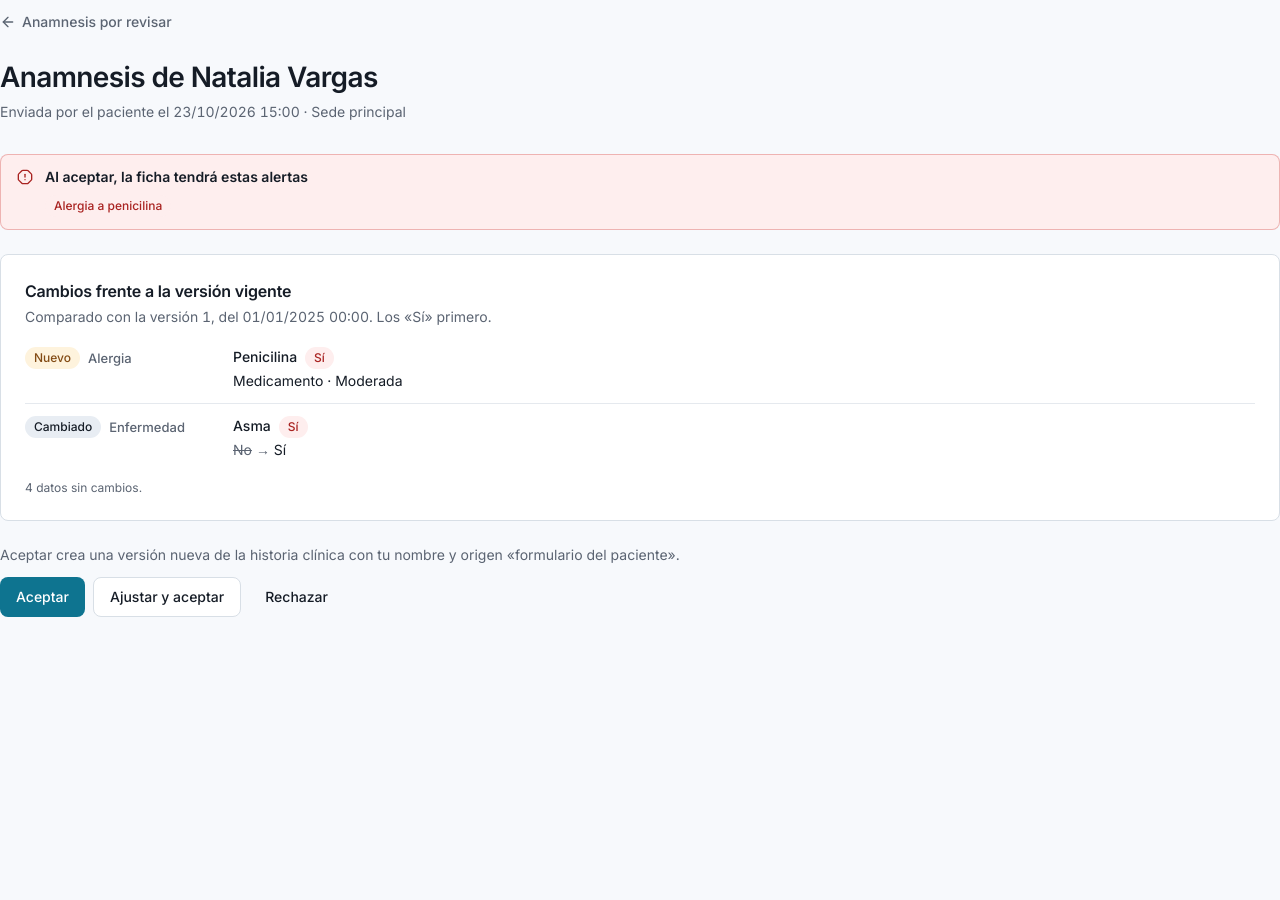
it: Revisión de la anamnesis (DX-099) › rechazar exige el motivo
Click the button "Rechazar": (297, 597) [249,577,344,617]
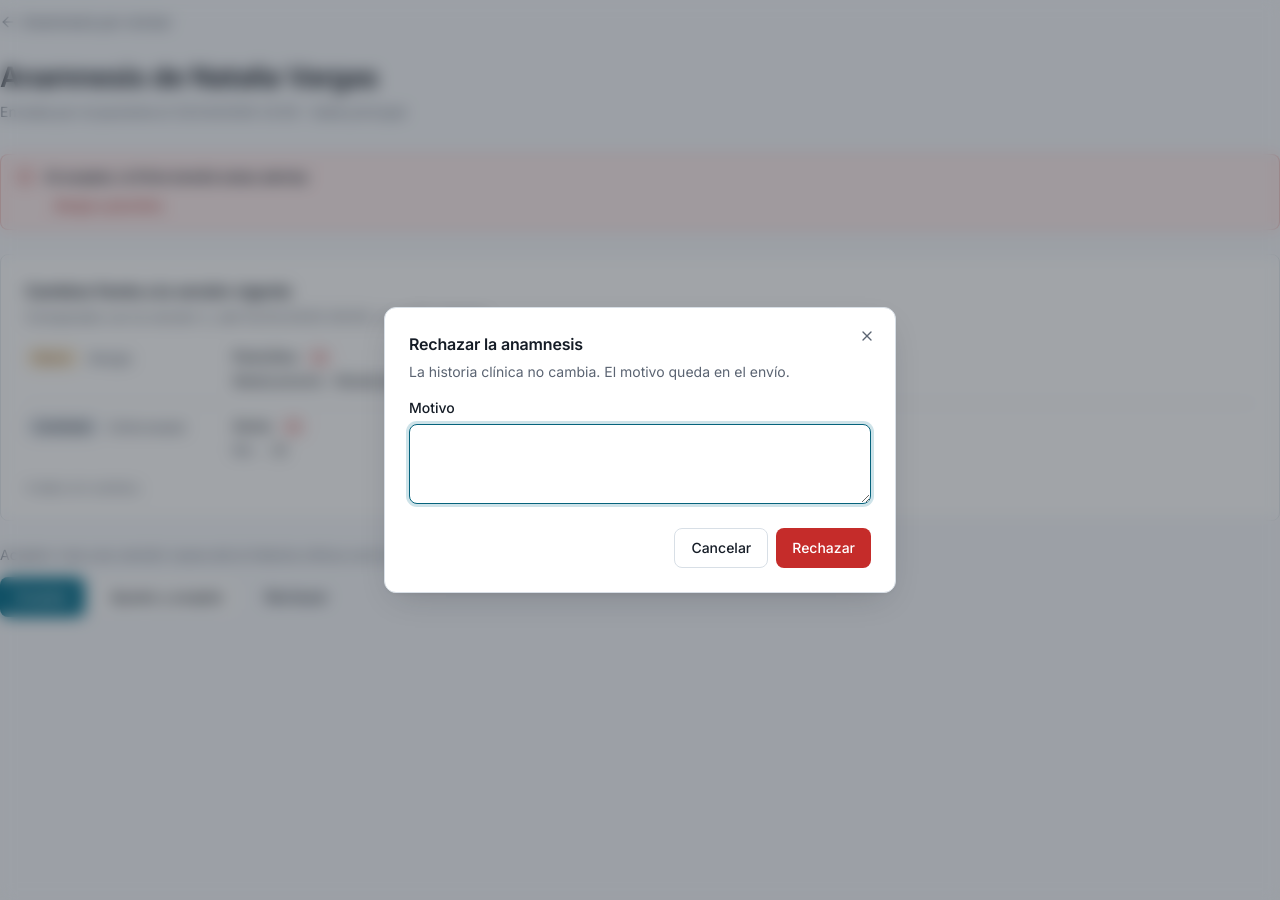
Submit the form, box [409,398,871,568]
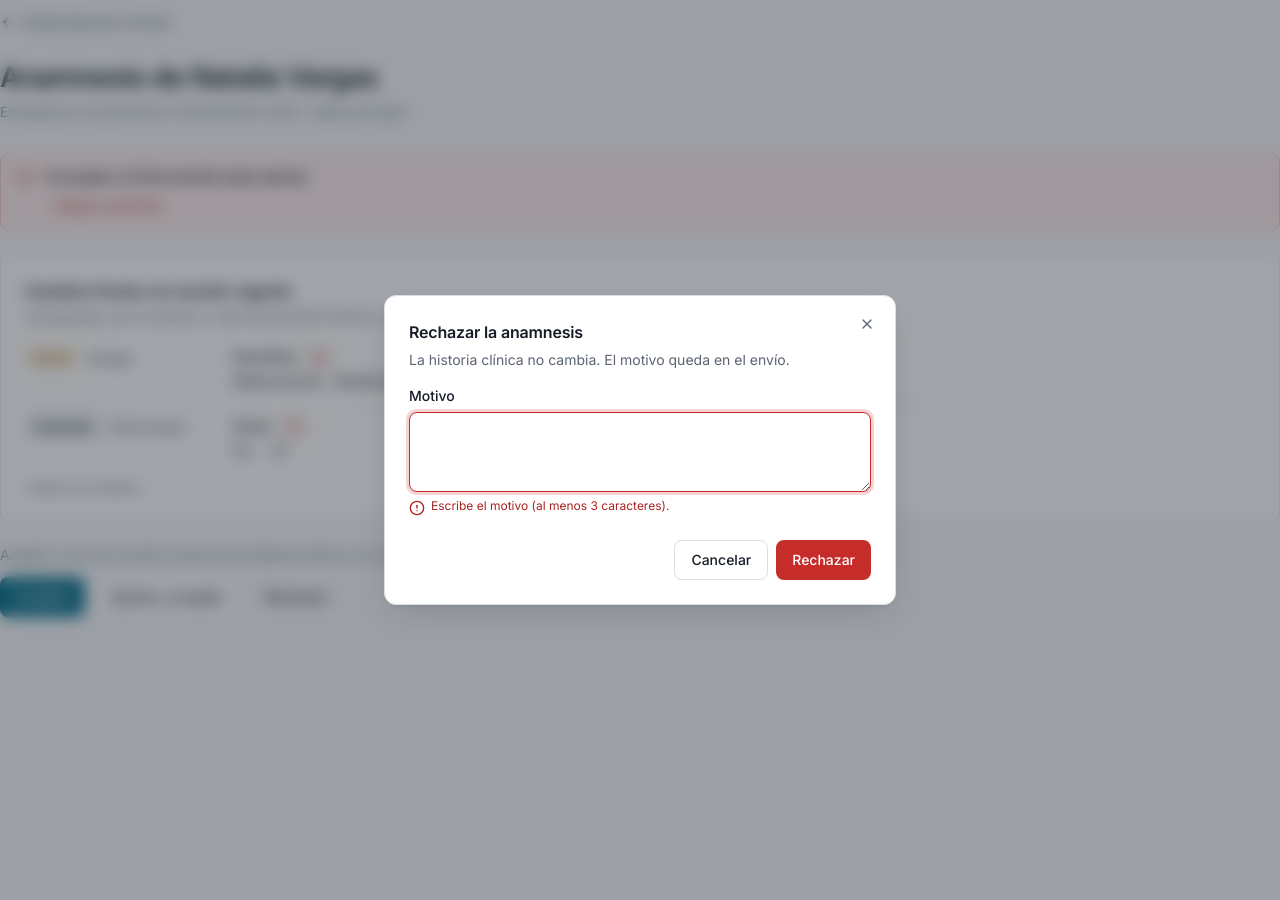
Expected: the text "Escribe el motivo (al menos 3 caracteres)." is shown, [431,498,669,514]
In the text box labelled "Motivo": (640, 452) [409,412,871,492], type "No es del paciente"
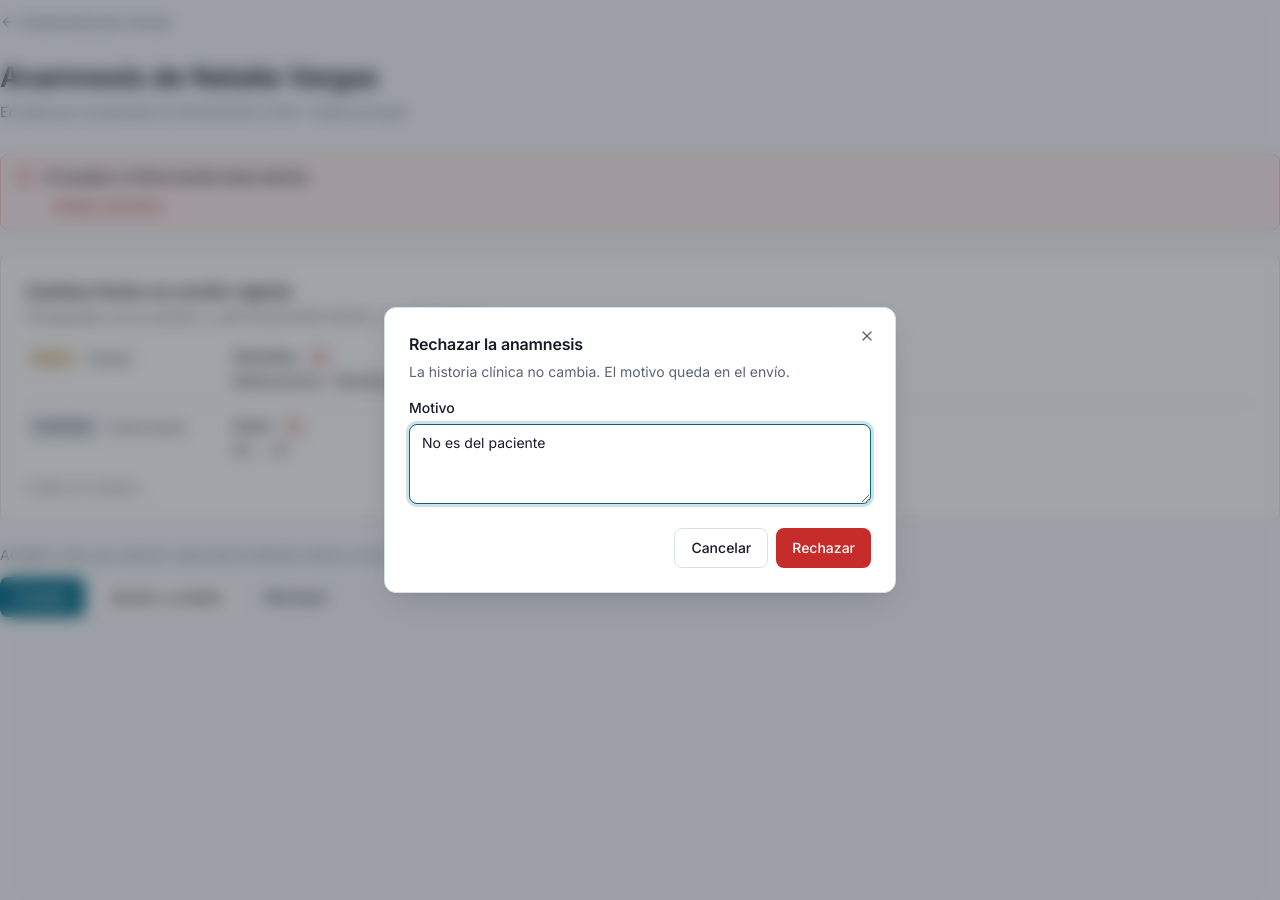
Submit the form, box [409,398,871,568]
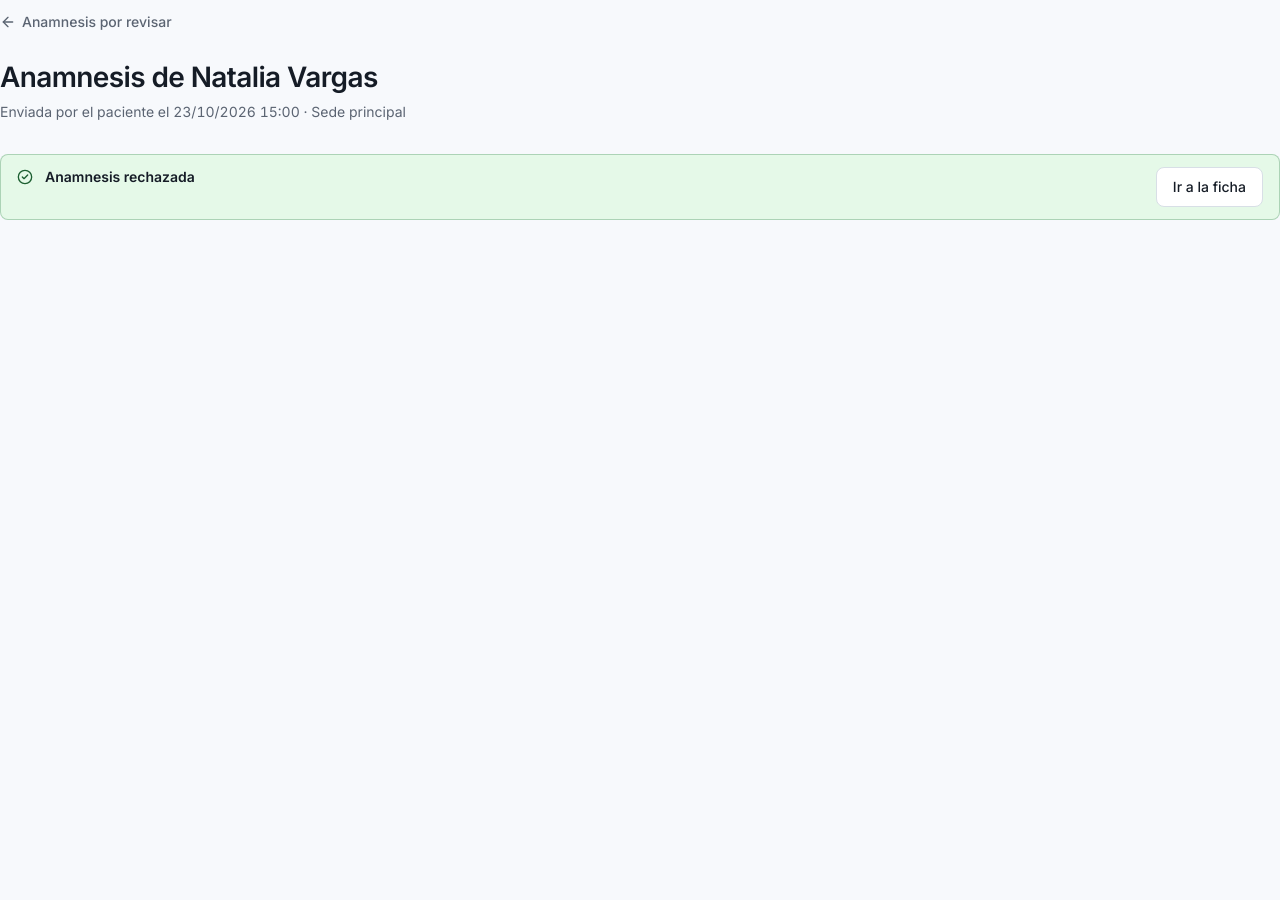
Expected: the text "Anamnesis rechazada" is shown, [45,168,195,185]
